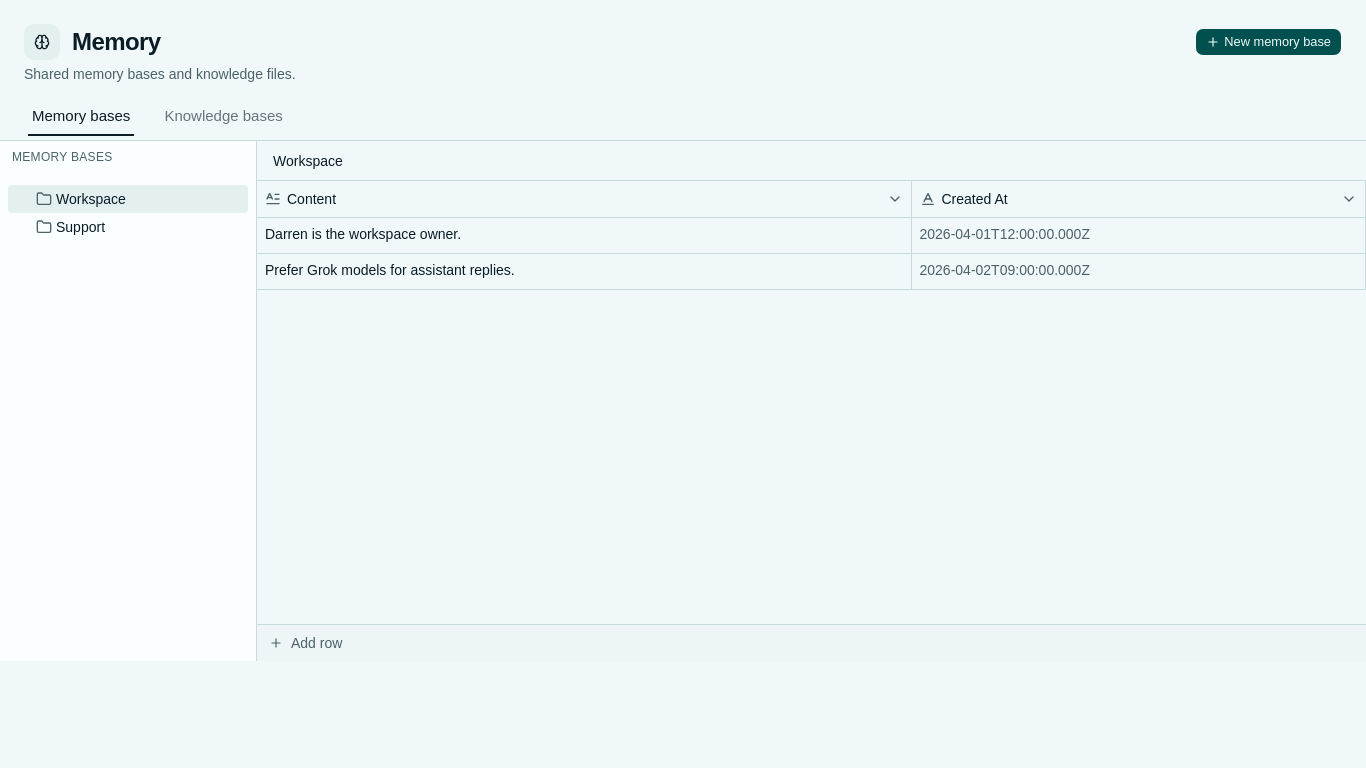
MemoryPage › creates a memory base from the name prompt
Click the button "New memory base".
click(1269, 42)  # box [1195,28,1342,56]
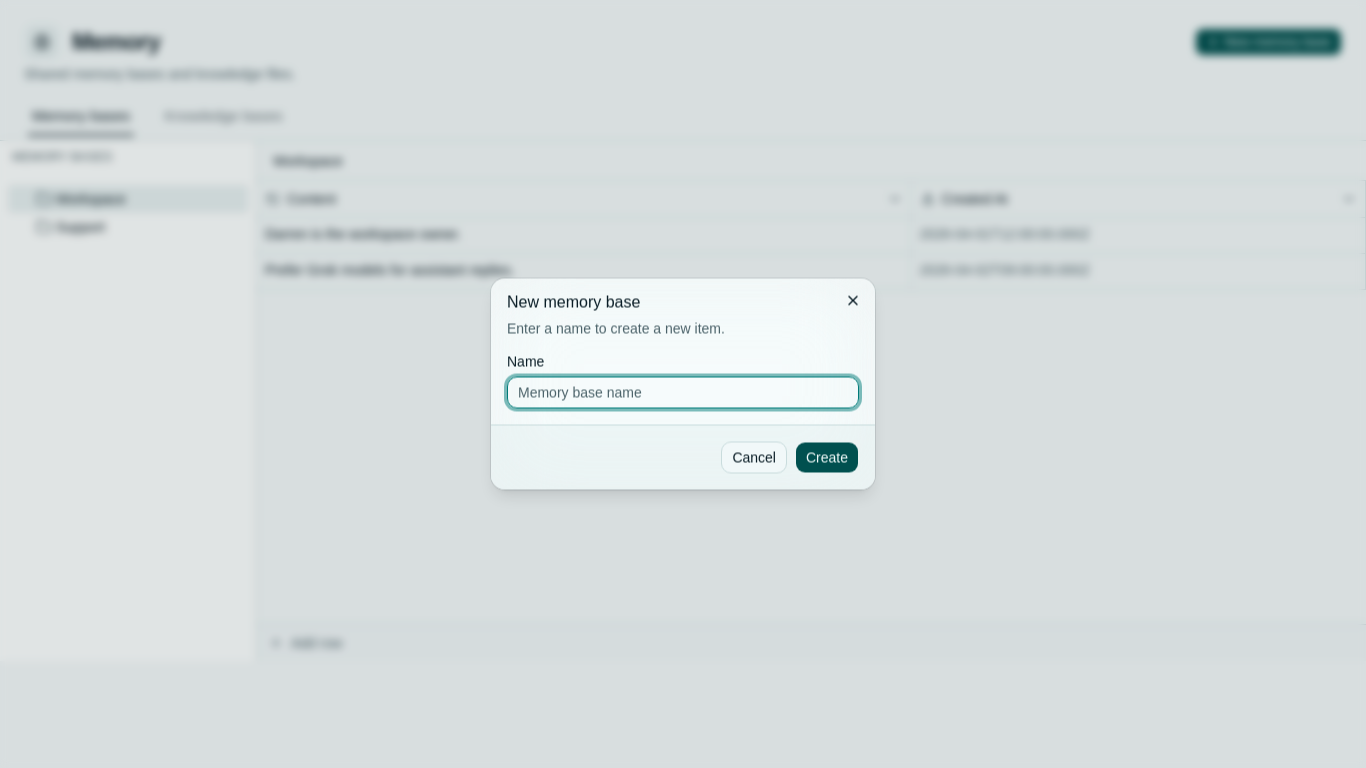
Type "Sales" into the field labelled "Name".
click(683, 392); type("Sales")  # box [507,376,859,408]
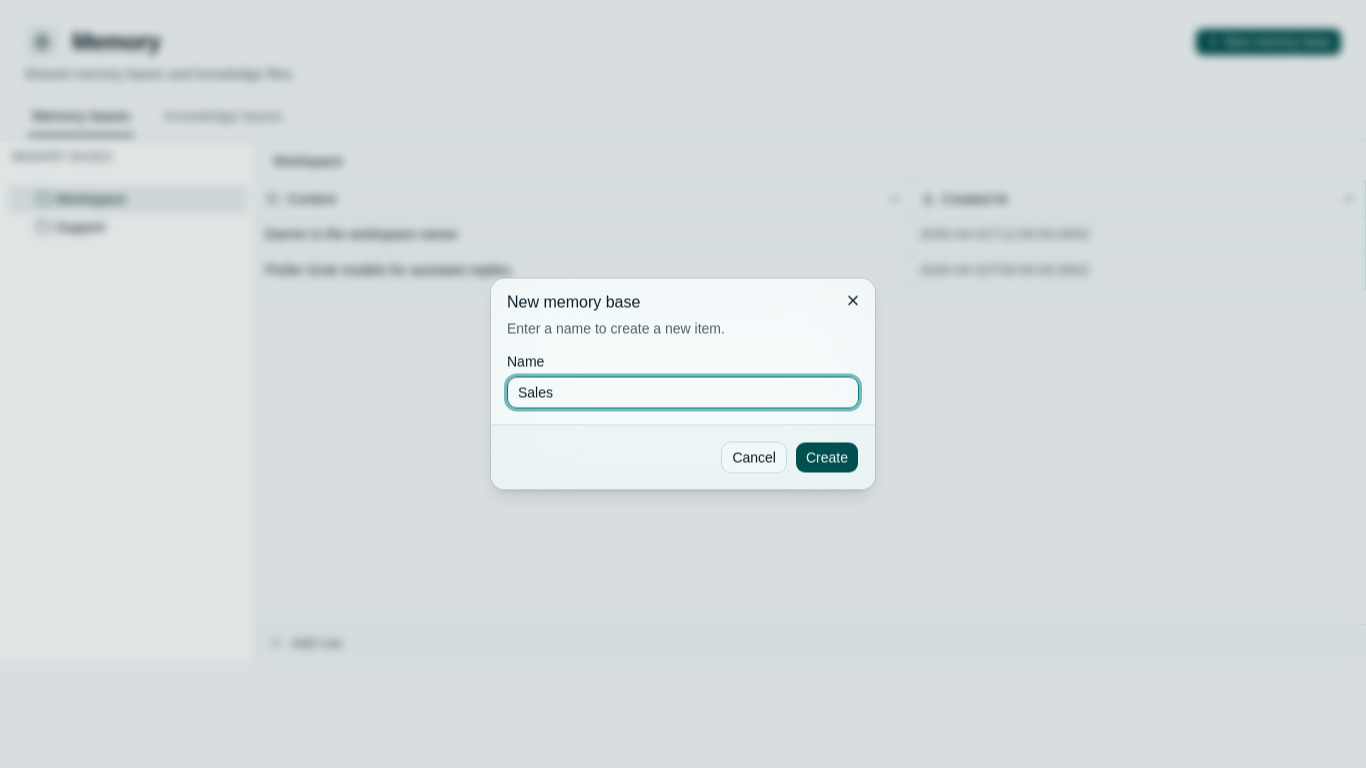
Click the button "Create".
click(827, 458)  # box [795,442,859,474]
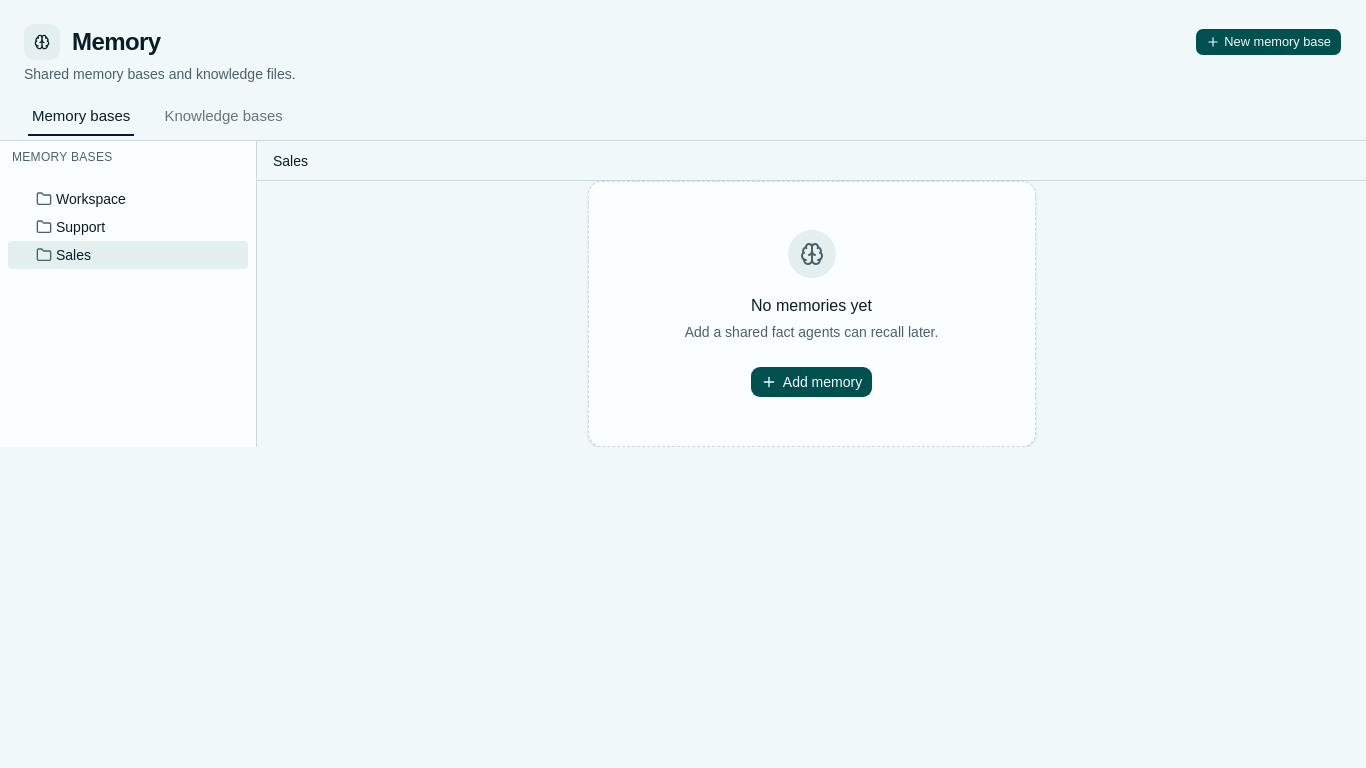
Expected: the list item "Sales" is shown, [8,241,248,269]
